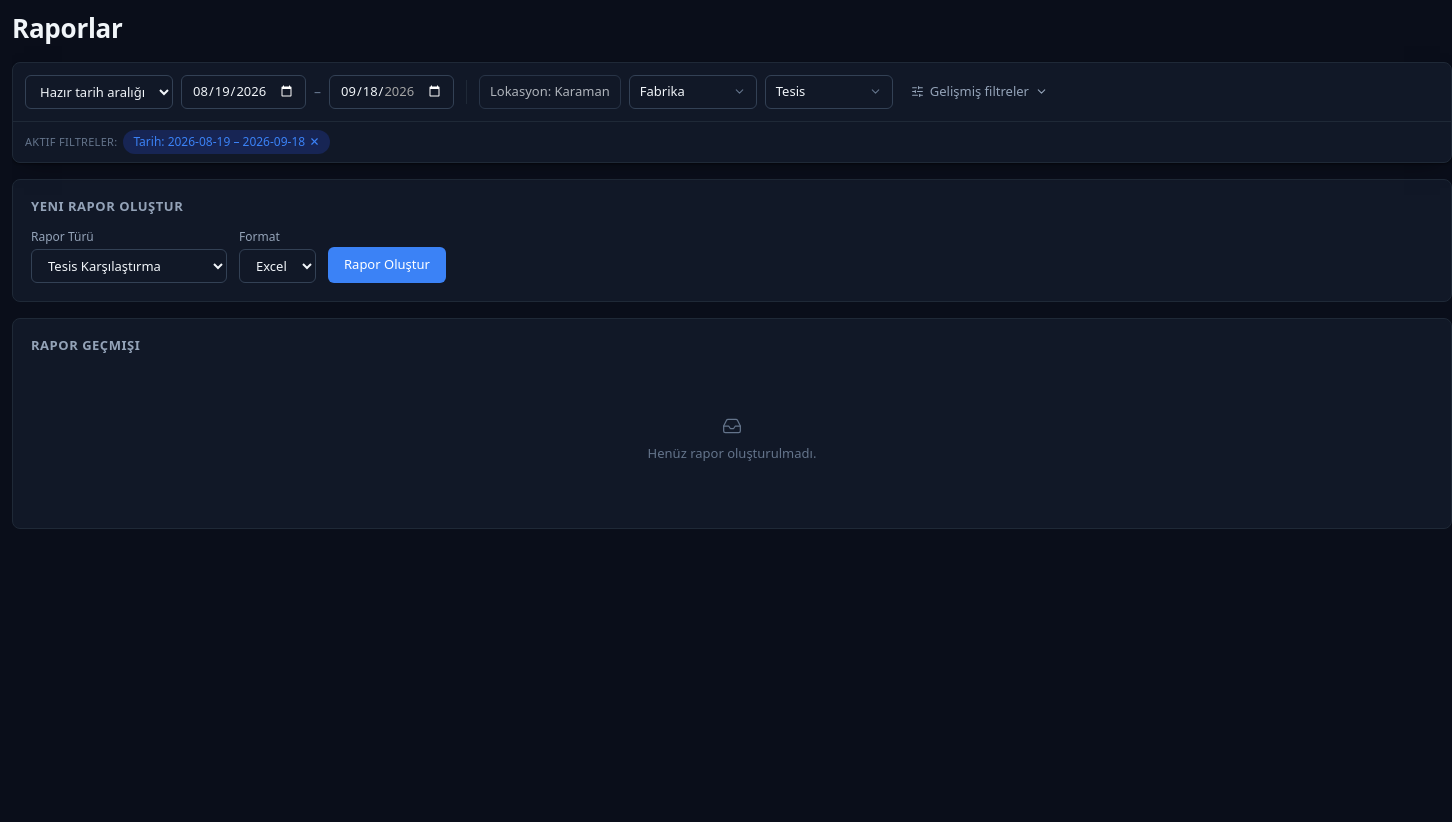
ReportsPage — permission-gated actions › hides the 'download now' button after generating a report when the user lacks reports.download
Check: the heading "Yeni Rapor Oluştur" is shown, box [31,198,183,215]
Click the button "Rapor Oluştur": click(387, 265) [328,247,446,283]
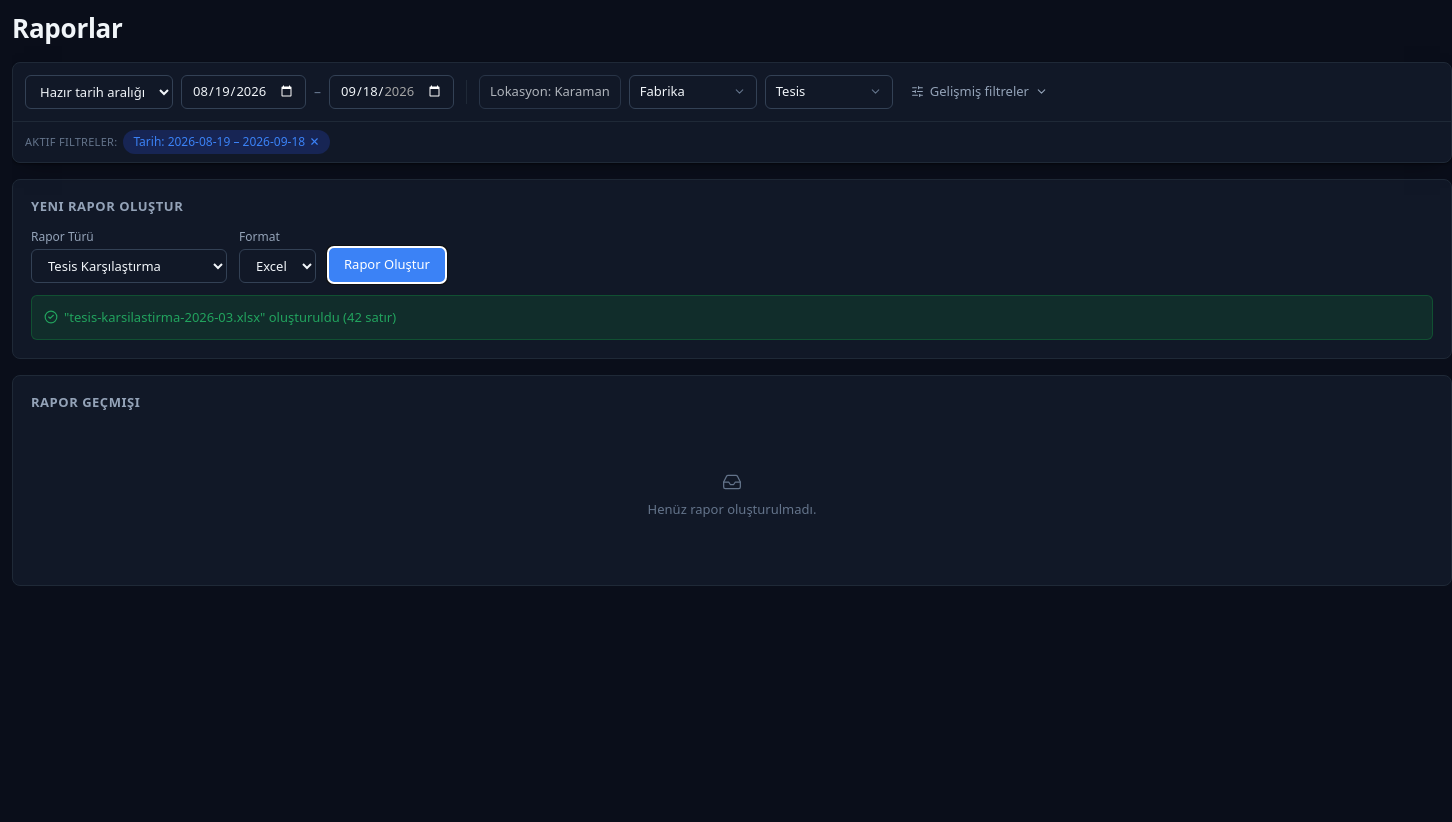
Check: the text "\"tesis-karsilastirma-2026-03.xlsx\" oluşturuldu (42 satır)" is shown, box [44,308,396,326]
